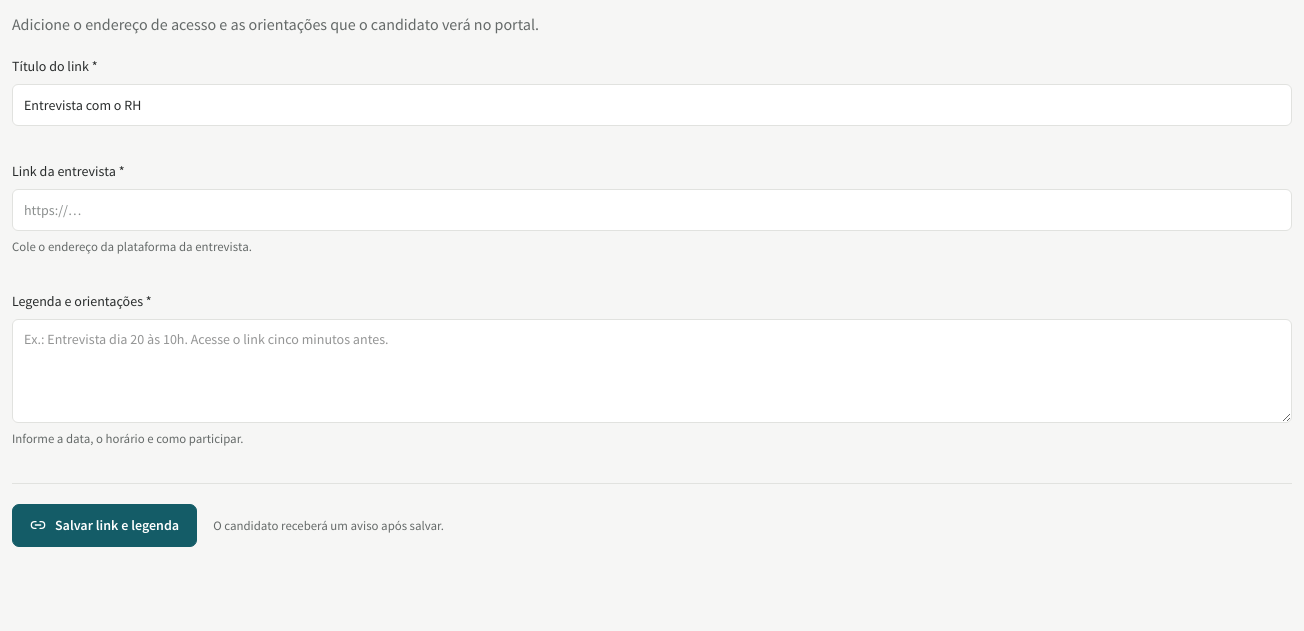
preserva os dados e exibe uma única mensagem quando o salvamento falha
In the field labelled "Link da entrevista": [652, 210] box [12,189,1292,231], type "https://example.com/entrevista"
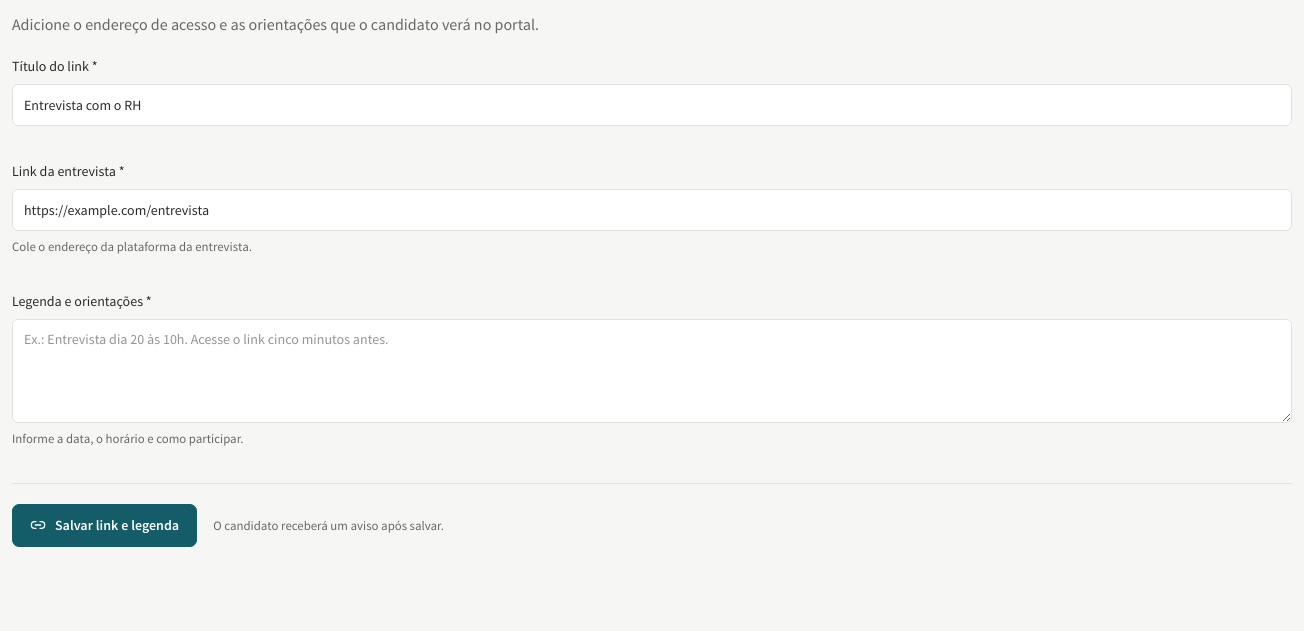
Replace the text in the text box labelled "Legenda e orientações" with "Dia 20, às 10h.": [652, 371] box [12,319,1292,423]
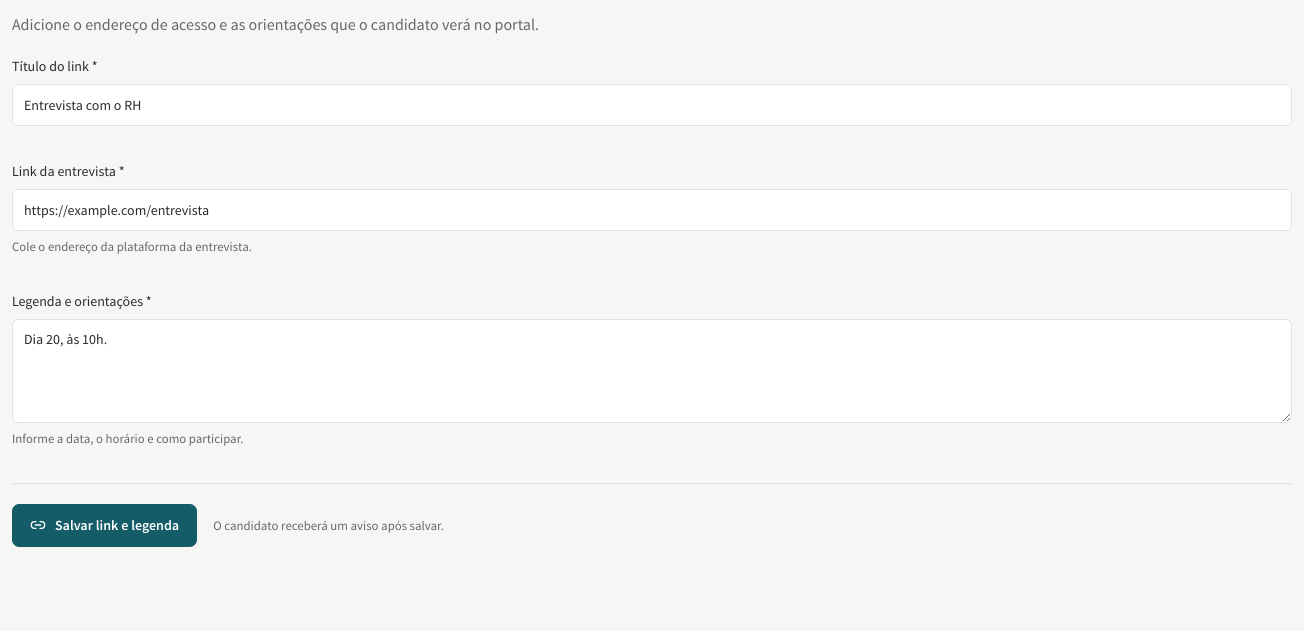
Click the button "Salvar link e legenda": [105, 525] box [12,504,197,547]
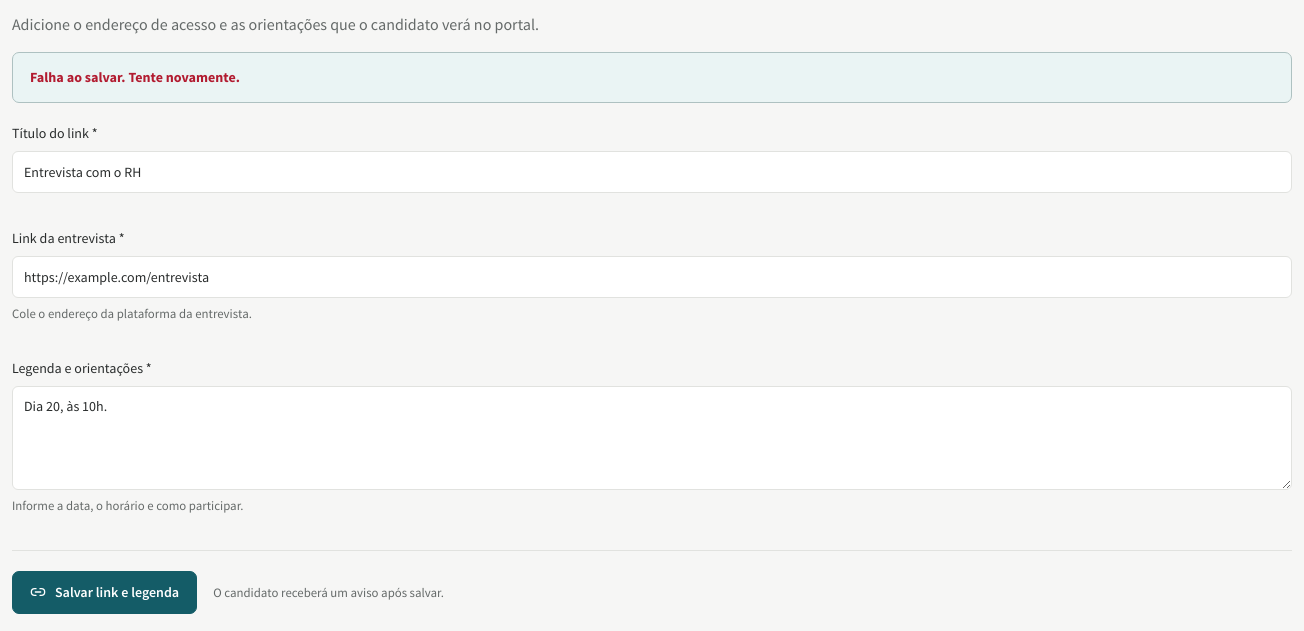
Check: the button "Salvar link e legenda" is enabled, box [12,571,197,614]
Check: the text "Falha ao salvar. Tente novamente." is shown, box [30,68,240,86]
Check: the number of messages is 1, box [12,52,1292,103]
